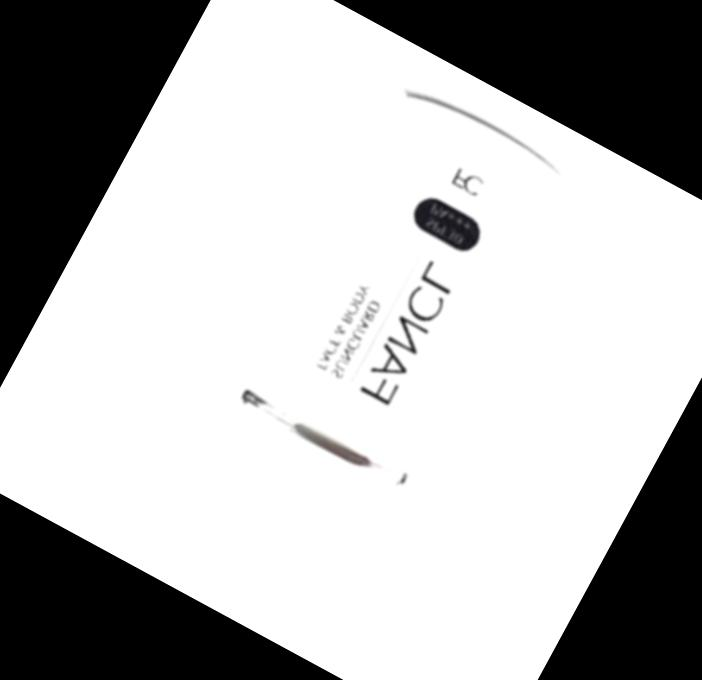cosmetic: (174, 78, 584, 596)
